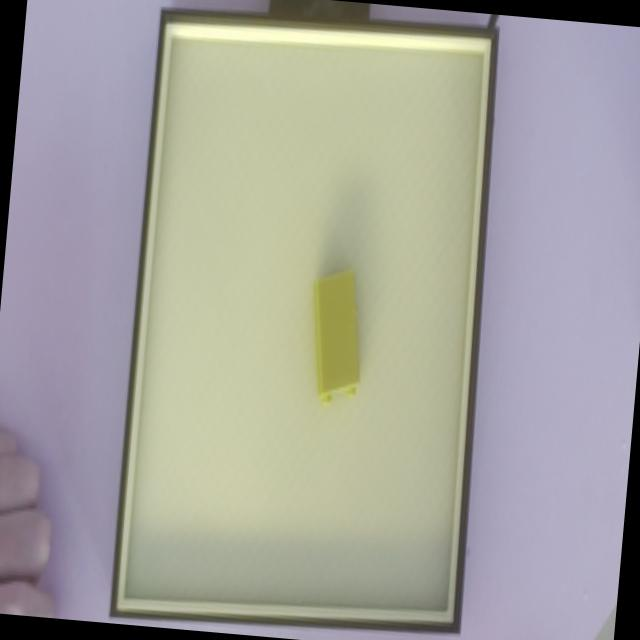bateria: (314, 267, 360, 405)
mesa: (108, 10, 499, 636)
